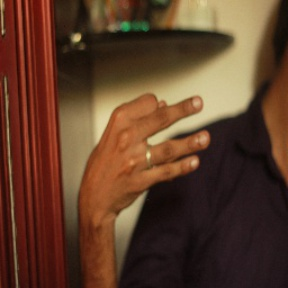K: (80, 92, 214, 207)
